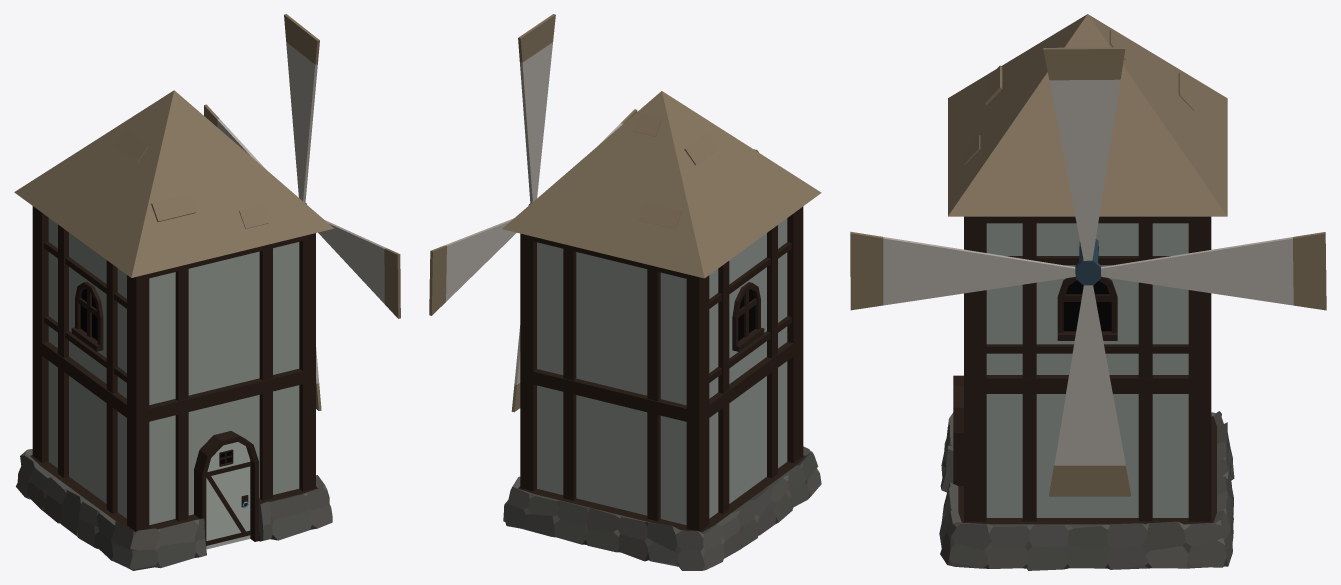
The model's file is Mill_01_C.gltf.
3 views of the same model, side by side, from view 1: azimuth 30°, elevation 25°; view 2: azimuth 150°, elevation 25°; view 3: azimuth 270°, elevation 25° (orthographic). The views are drawn at different scales.
Parts seen in each view (by area): view 1: Mill_01_C, MillSpinner_01_C, MillDoor_01_C; view 2: Mill_01_C, MillSpinner_01_C; view 3: Mill_01_C, MillSpinner_01_C.
Part boxes in pixels (x1,y1,x2,y2): Mill_01_C: (14, 90, 333, 570); MillSpinner_01_C: (204, 14, 400, 410); MillDoor_01_C: (206, 442, 250, 549); Mill_01_C: (502, 91, 821, 570); MillSpinner_01_C: (429, 14, 637, 412); Mill_01_C: (939, 14, 1234, 570); MillSpinner_01_C: (850, 47, 1326, 496).
Bounding box in the file's own units: 2.53 × 4.55 × 3.66.
